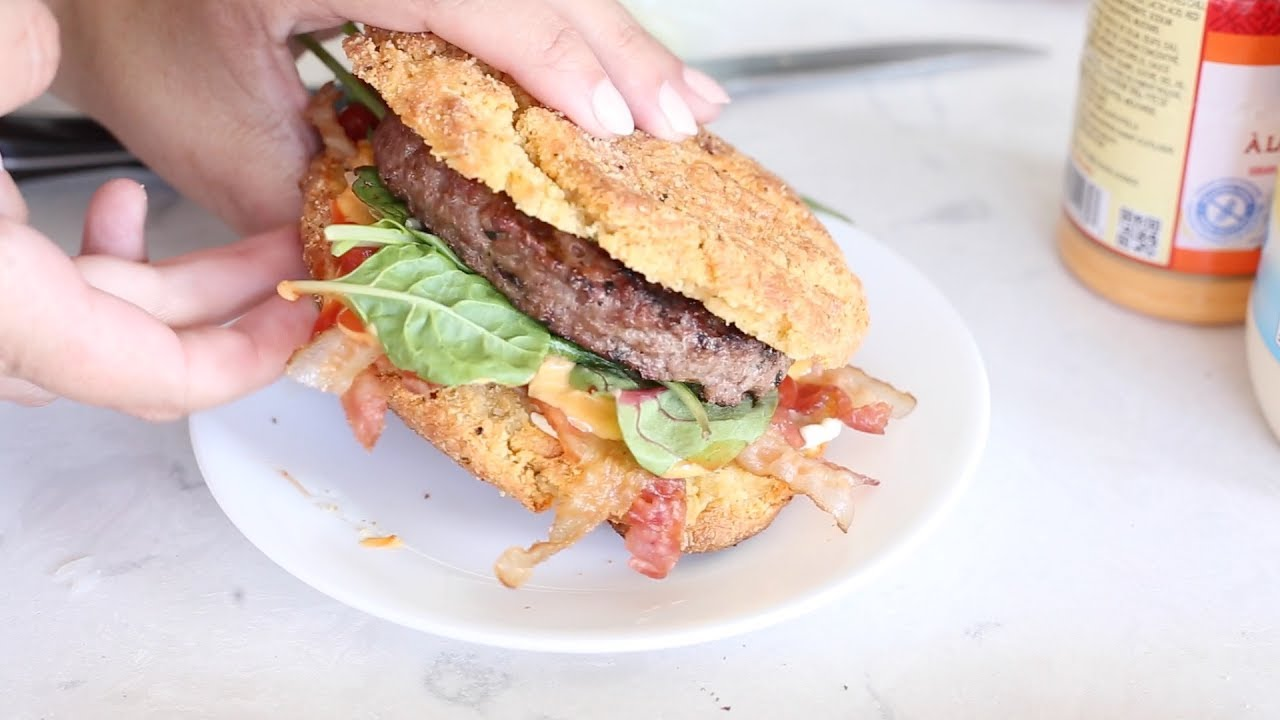hamburger_buns: (220, 18, 906, 624)
